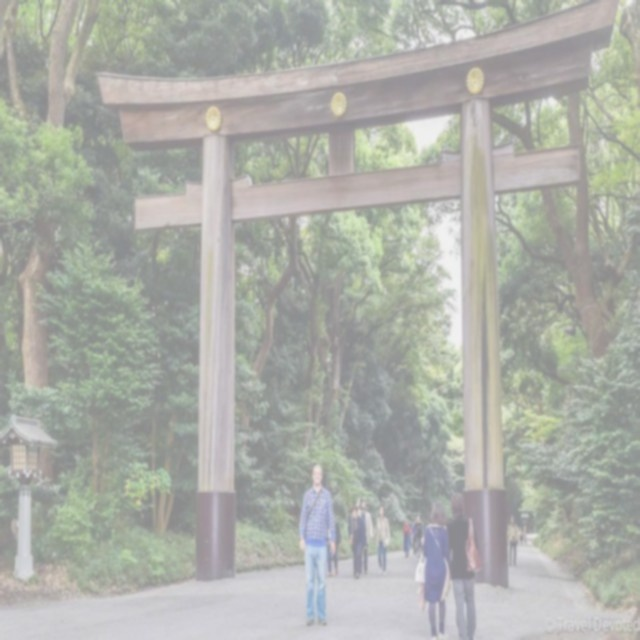pessoa: (298, 462, 337, 627), (444, 490, 481, 640), (413, 497, 451, 639), (346, 504, 368, 580), (371, 501, 392, 577), (356, 494, 374, 575), (326, 520, 342, 578), (506, 514, 520, 568), (402, 520, 414, 559), (414, 513, 424, 559), (408, 514, 418, 557), (518, 522, 528, 544)
